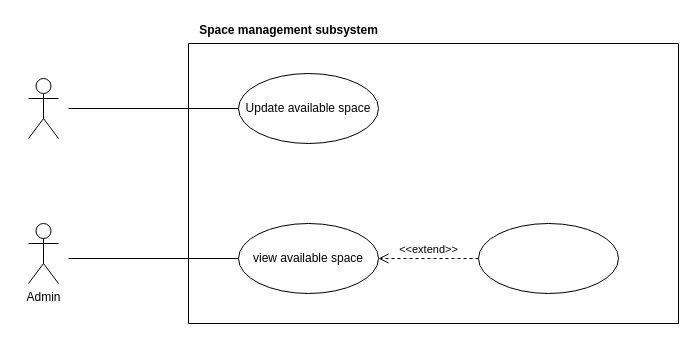
This 696x341 diagram has some shape labels left out. Each missing label, with the box of its shape:
Employee: (28, 78, 58, 138)
Generate space report: (478, 222, 618, 294)
